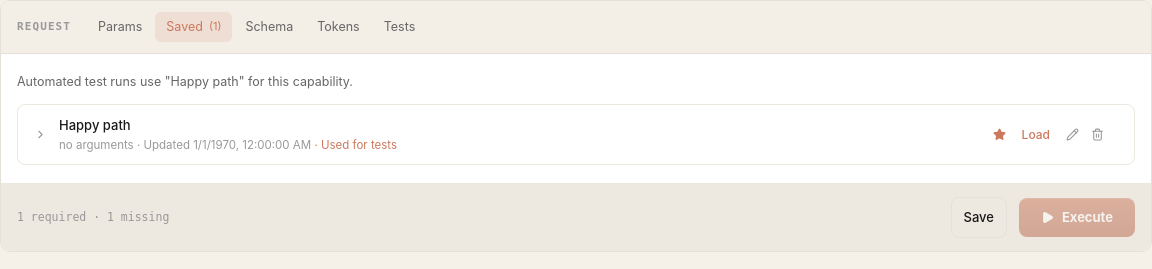
Scenario: ToolRequestPanel — Saved tab › with a stubbed testing API › clicking the already-marked request unmarks it
expect the text "Happy path" is shown: met, box x1=59 y1=117 x2=131 y2=133
Click the button named "Stop using Happy path for tests". click: (999, 135)
box: x1=989 y1=124 x2=1010 y2=145
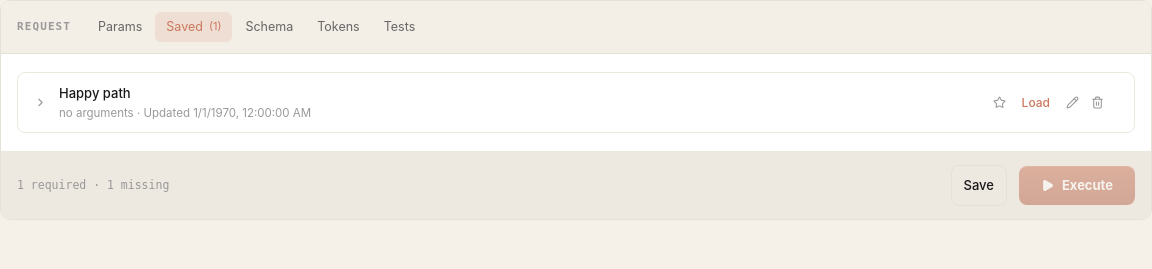
expect the text "Automated test runs use \"Happy path\" for this capability." is gone: met
